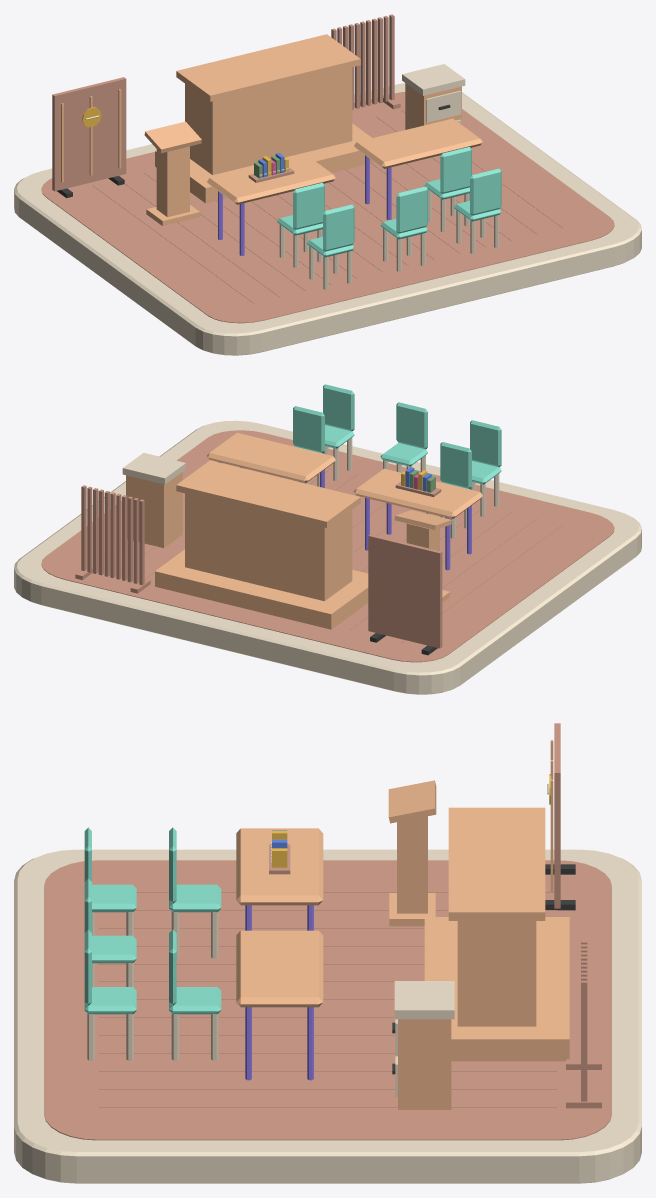
Rendered from room.fbx.
3 renders of one model, top to bottom at view 1: azimuth 30°, elevation 25°; view 2: azimuth 150°, elevation 25°; view 3: azimuth 270°, elevation 25°, orthographic. The views are drawn at different scales.
Visible parts, largest first — view 1: COM-02 Floor Surface, COM-01 Rounded Base Direct, Bench, Panel, Top, Rounded table top.001, Rounded table top, Platform, Body, Top.001, Backrest.002, Backrest.003 (+13 smaller); view 2: COM-02 Floor Surface, COM-01 Rounded Base Direct, Bench, Panel, Platform, Top, Rounded table top.001, Body.001, Rounded table top, Top.001, Backrest, Backrest.001 (+19 smaller); view 3: COM-02 Floor Surface, COM-01 Rounded Base Direct, Top, Platform, Bench, Rounded table top.001, Rounded table top, Body.001, Body, Top.001, Reading top, Seat (+10 smaller).
Part boxes in pixels (x1=…): COM-02 Floor Surface: x1=41, y1=92, x2=614, y2=323; COM-01 Rounded Base Direct: x1=14, y1=83, x2=641, y2=355; Bench: x1=185, y1=67, x2=352, y2=174; Panel: x1=52, y1=77, x2=126, y2=191; Top: x1=176, y1=34, x2=360, y2=101; Rounded table top.001: x1=354, y1=118, x2=482, y2=168; Rounded table top: x1=207, y1=154, x2=335, y2=204; Platform: x1=155, y1=123, x2=374, y2=203; Body: x1=156, y1=146, x2=189, y2=217; Top.001: x1=402, y1=64, x2=465, y2=95; Backrest.002: x1=323, y1=204, x2=354, y2=251; Backrest.003: x1=396, y1=186, x2=427, y2=233; COM-02 Floor Surface: x1=41, y1=430, x2=614, y2=662; COM-01 Rounded Base Direct: x1=14, y1=420, x2=641, y2=694; Bench: x1=185, y1=493, x2=352, y2=601; Panel: x1=368, y1=534, x2=442, y2=648; Platform: x1=155, y1=549, x2=368, y2=629; Top: x1=176, y1=460, x2=360, y2=527; Rounded table top.001: x1=207, y1=432, x2=335, y2=483; Body.001: x1=126, y1=472, x2=182, y2=548; Rounded table top: x1=354, y1=468, x2=482, y2=518; Top.001: x1=122, y1=452, x2=185, y2=484; Backrest: x1=440, y1=442, x2=471, y2=488; Backrest.001: x1=293, y1=406, x2=324, y2=453; COM-02 Floor Surface: x1=44, y1=860, x2=611, y2=1140; COM-01 Rounded Base Direct: x1=14, y1=849, x2=641, y2=1183; Top: x1=448, y1=807, x2=545, y2=920; Platform: x1=424, y1=917, x2=569, y2=1061; Bench: x1=457, y1=921, x2=536, y2=1026; Rounded table top.001: x1=236, y1=930, x2=323, y2=1007; Rounded table top: x1=236, y1=828, x2=323, y2=905; Body.001: x1=398, y1=1019, x2=451, y2=1109; Body: x1=397, y1=816, x2=427, y2=913; Top.001: x1=394, y1=981, x2=454, y2=1019; Reading top: x1=388, y1=780, x2=436, y2=823; Seat: x1=169, y1=884, x2=221, y2=912.
Bounding box in the file's own units: 600 × 159 × 520.
